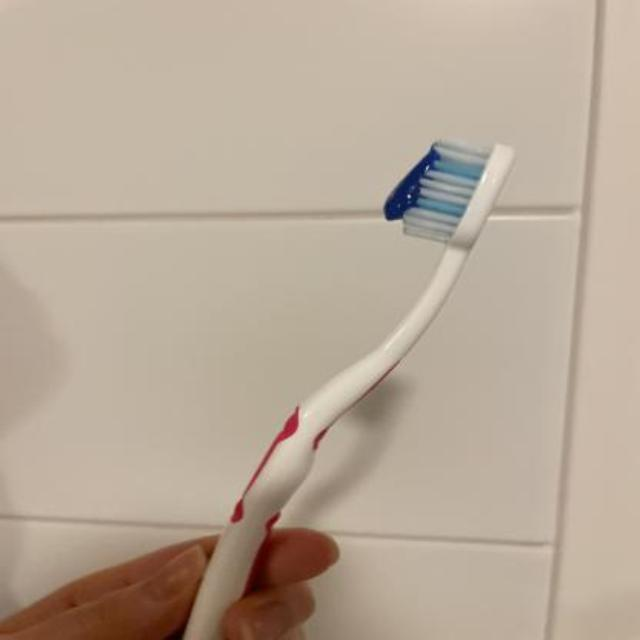toothbrush: (172, 130, 524, 640)
